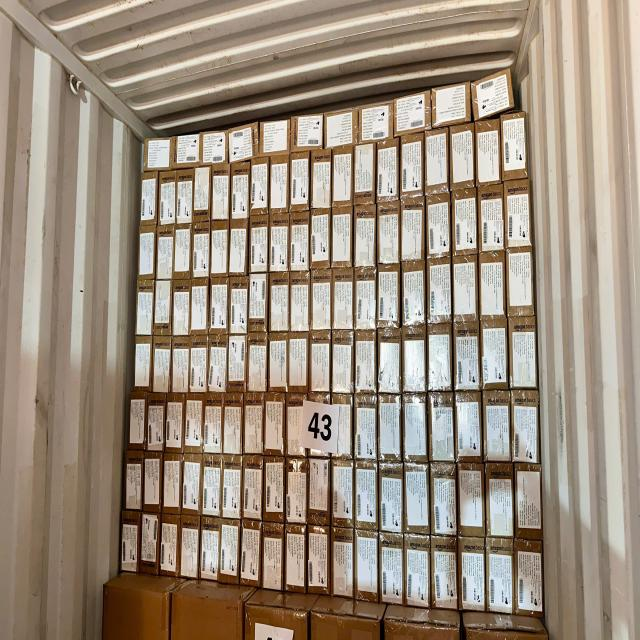Carton: (512, 458, 548, 542), (512, 538, 546, 618), (508, 391, 542, 469), (482, 462, 516, 540), (503, 245, 538, 320), (470, 65, 518, 119), (481, 388, 513, 467), (485, 535, 515, 619), (458, 533, 487, 616), (455, 462, 485, 542), (401, 459, 431, 538), (502, 176, 532, 252), (507, 317, 537, 391), (430, 535, 460, 609), (430, 459, 458, 538), (427, 391, 457, 464), (449, 186, 479, 258), (476, 182, 506, 252), (453, 394, 483, 464), (404, 535, 432, 609), (354, 530, 382, 604), (452, 322, 481, 393), (500, 111, 529, 181), (480, 320, 508, 392), (354, 454, 380, 531), (478, 250, 506, 321), (424, 260, 454, 326), (378, 532, 404, 608), (398, 196, 426, 266), (331, 456, 357, 530), (402, 392, 428, 463), (376, 198, 402, 268), (449, 122, 476, 189), (379, 457, 403, 532), (307, 524, 331, 598), (262, 522, 286, 596), (425, 195, 451, 263), (404, 328, 430, 396), (331, 529, 355, 602), (452, 255, 478, 322), (427, 324, 453, 390), (401, 266, 429, 327), (330, 326, 354, 396), (475, 118, 501, 182), (353, 202, 377, 271), (378, 327, 402, 396), (393, 89, 431, 132), (286, 524, 308, 598), (352, 268, 378, 330), (432, 82, 472, 122), (308, 457, 331, 526), (378, 396, 402, 462), (218, 516, 240, 588), (426, 132, 450, 196), (330, 206, 354, 270), (378, 266, 402, 330), (331, 268, 355, 332), (330, 396, 354, 459), (264, 454, 286, 522), (376, 140, 400, 202), (332, 145, 356, 207), (308, 332, 332, 394), (355, 394, 377, 461), (240, 454, 262, 521), (286, 456, 308, 523), (309, 146, 332, 210), (402, 134, 424, 200), (310, 268, 332, 334), (179, 514, 201, 580), (246, 332, 268, 397), (246, 275, 270, 334), (354, 329, 376, 393), (221, 450, 242, 517), (200, 515, 220, 585), (307, 397, 331, 455), (286, 394, 308, 457), (264, 393, 286, 456), (247, 216, 270, 276), (210, 161, 232, 223), (288, 212, 310, 274), (228, 275, 250, 337), (225, 333, 247, 395), (288, 332, 310, 394), (242, 522, 262, 590), (289, 273, 311, 334), (354, 143, 376, 203), (169, 336, 191, 396), (202, 452, 222, 518), (290, 153, 312, 212), (358, 100, 392, 138), (270, 152, 291, 213), (231, 158, 252, 219), (310, 206, 330, 270), (270, 271, 290, 335), (208, 220, 230, 278), (243, 396, 265, 454), (126, 394, 148, 452), (136, 279, 158, 336), (325, 109, 357, 148), (268, 331, 288, 393), (120, 512, 140, 574), (289, 116, 324, 151), (160, 512, 178, 580), (123, 451, 143, 512), (228, 219, 248, 279), (270, 216, 290, 276), (209, 278, 229, 338), (190, 277, 210, 337), (172, 281, 192, 340), (164, 451, 184, 510), (223, 396, 243, 454), (259, 119, 291, 155), (209, 332, 227, 396), (143, 514, 161, 578), (202, 399, 222, 455), (184, 398, 204, 454), (174, 170, 194, 225), (228, 123, 258, 159), (251, 156, 269, 216), (158, 171, 178, 225), (154, 275, 172, 335), (190, 336, 208, 396), (133, 338, 152, 394), (155, 224, 173, 283), (191, 221, 209, 280), (142, 138, 172, 173), (173, 221, 191, 279), (144, 451, 162, 509), (147, 399, 167, 451), (192, 166, 210, 223), (183, 454, 201, 511), (136, 226, 156, 277), (166, 398, 184, 454), (153, 337, 171, 392), (172, 135, 202, 167), (140, 175, 158, 226), (201, 130, 228, 162)
